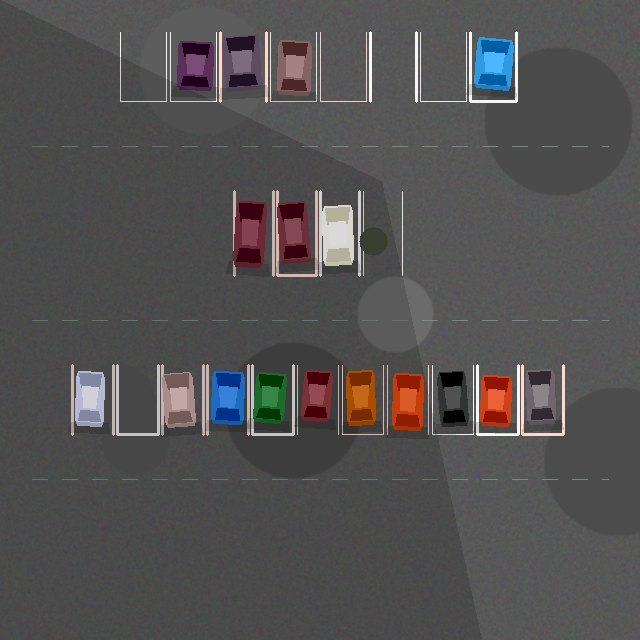space-empty: (363, 191, 402, 275), (120, 32, 166, 101), (320, 32, 366, 101), (370, 32, 416, 101), (420, 32, 466, 101), (117, 365, 158, 434)
space-occupied: (234, 191, 273, 275), (277, 191, 316, 275), (320, 191, 359, 275), (170, 32, 216, 101), (220, 32, 266, 101), (270, 32, 316, 101), (470, 32, 516, 101), (72, 365, 113, 434), (162, 365, 203, 434), (207, 365, 248, 434), (252, 365, 293, 434), (297, 365, 338, 434), (342, 365, 383, 434), (387, 365, 428, 434), (432, 365, 473, 434), (477, 365, 518, 434), (522, 365, 563, 434)
